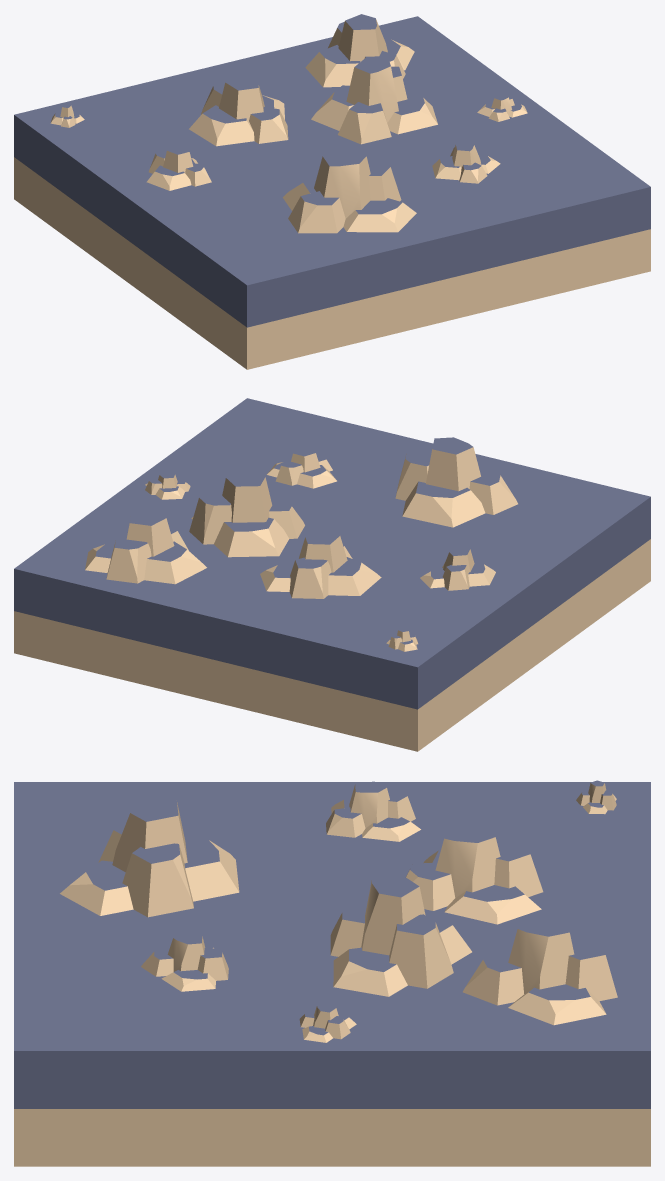
Rendered from tile_rock.glb.
The picture shows the model from 3 angles, top to bottom: view 1: azimuth 30°, elevation 25°; view 2: azimuth 150°, elevation 25°; view 3: azimuth 270°, elevation 25°; orthographic projection. The views are drawn at different scales.
Visible parts, largest first — view 1: tile_rock, rocks.012, rocks.006, rocks, rocks.010, rocks.002, rocks.005, rocks.007; view 2: tile_rock, rocks.012, rocks.006, rocks.010, rocks, rocks.002, rocks.005, rocks.007, rocks.001; view 3: tile_rock, rocks.012, rocks.006, rocks.010, rocks, rocks.002, rocks.005, rocks.007, rocks.001.
Part boxes in pixels (left/top/right/bottom): tile_rock: left=14, top=16, right=650, bottom=369; rocks.012: left=283, top=150, right=416, bottom=233; rocks.006: left=311, top=58, right=437, bottom=144; rocks: left=189, top=74, right=288, bottom=146; rocks.010: left=305, top=14, right=414, bottom=87; rocks.002: left=146, top=145, right=211, bottom=190; rocks.005: left=432, top=141, right=500, bottom=183; rocks.007: left=477, top=94, right=527, bottom=121; tile_rock: left=14, top=398, right=650, bottom=751; rocks.012: left=395, top=437, right=517, bottom=527; rocks.006: left=189, top=473, right=304, bottom=557; rocks.010: left=85, top=510, right=206, bottom=584; rocks: left=260, top=529, right=381, bottom=598; rocks.002: left=420, top=546, right=495, bottom=590; rocks.005: left=266, top=447, right=336, bottom=488; rocks.007: left=145, top=473, right=190, bottom=499; rocks.001: left=386, top=628, right=418, bottom=651; tile_rock: left=14, top=782, right=650, bottom=1166; rocks.012: left=60, top=796, right=239, bottom=917; rocks.006: left=330, top=874, right=471, bottom=996; rocks.010: left=463, top=917, right=617, bottom=1025; rocks: left=406, top=825, right=543, bottom=924; rocks.002: left=326, top=781, right=420, bottom=841; rocks.005: left=141, top=932, right=228, bottom=991; rocks.007: left=299, top=1003, right=356, bottom=1042; rocks.001: left=576, top=780, right=616, bottom=814.
Bounding box in the file's own units: 1 × 0.3269 × 1.
